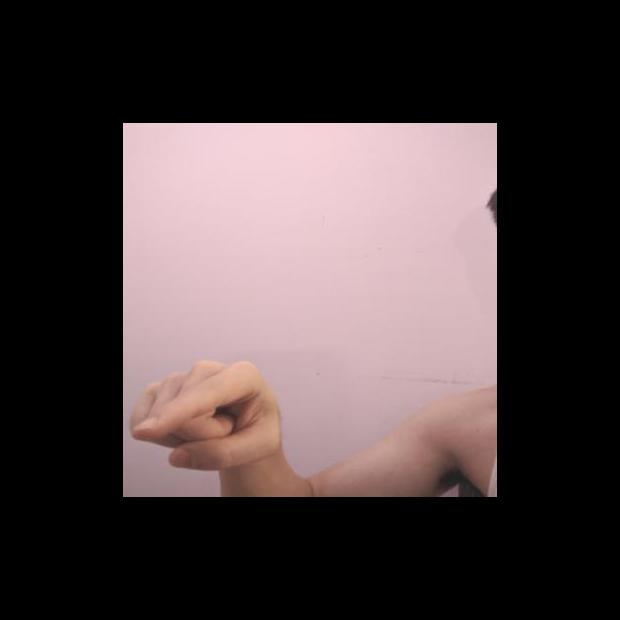Y: (123, 352, 287, 479)
